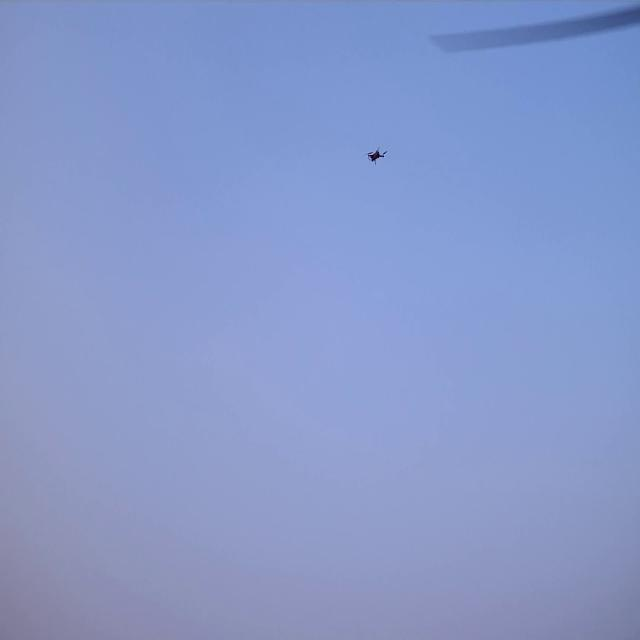UAV: (368, 149, 385, 162)
